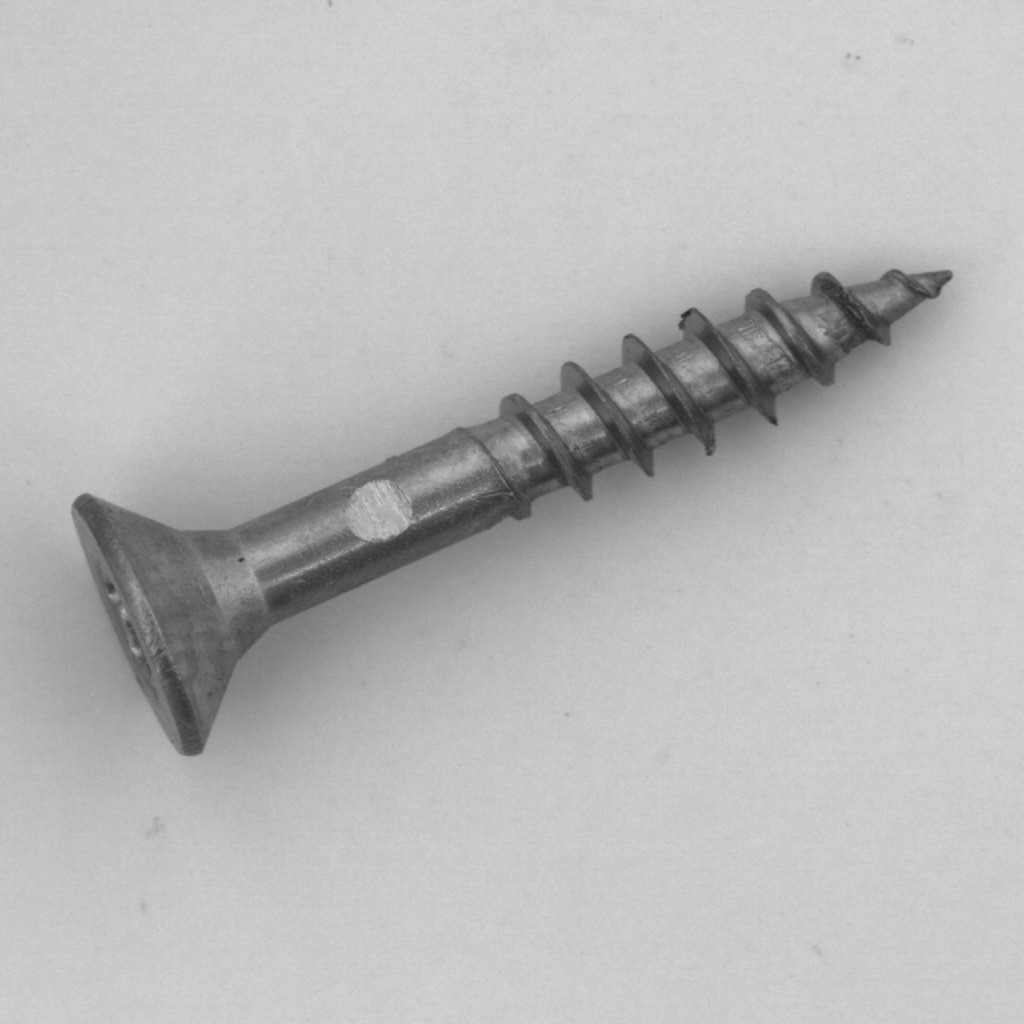manipulated_front: (817, 473, 1000, 647)
